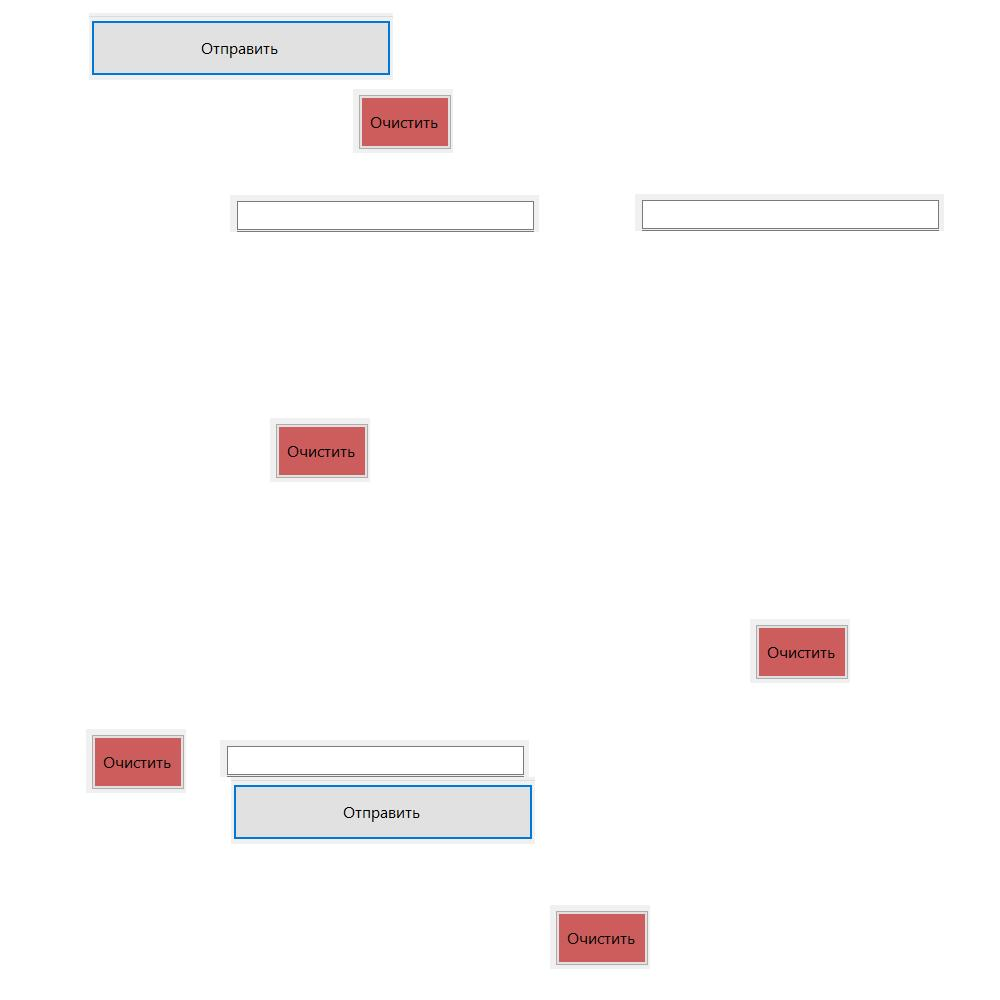Button: (231, 777, 535, 844), (89, 13, 393, 80), (750, 619, 850, 683), (270, 418, 370, 482), (353, 89, 453, 153), (86, 729, 186, 793), (550, 905, 650, 969)
EditText-: (635, 194, 944, 231), (230, 195, 539, 232), (220, 740, 529, 777)
